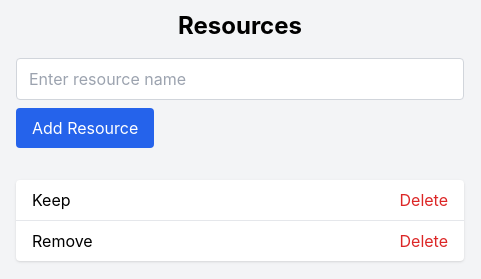
Scenario: Resources Page › deletes a resource from the list
The image size is (481, 279).
Expected: the list item "Remove" is shown, [32, 231, 93, 251]
What coordinates should you click on to do the following:
click the button "Delete" in the row of "Remove"
I would click on:
 (424, 241)
Its box is [400, 229, 448, 253].
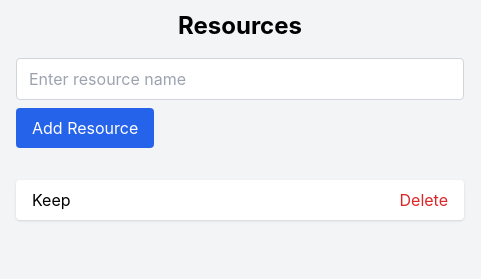
Expected: the list item "Keep" is shown, [32, 190, 71, 210]
Expected: the list item "Remove" is gone
